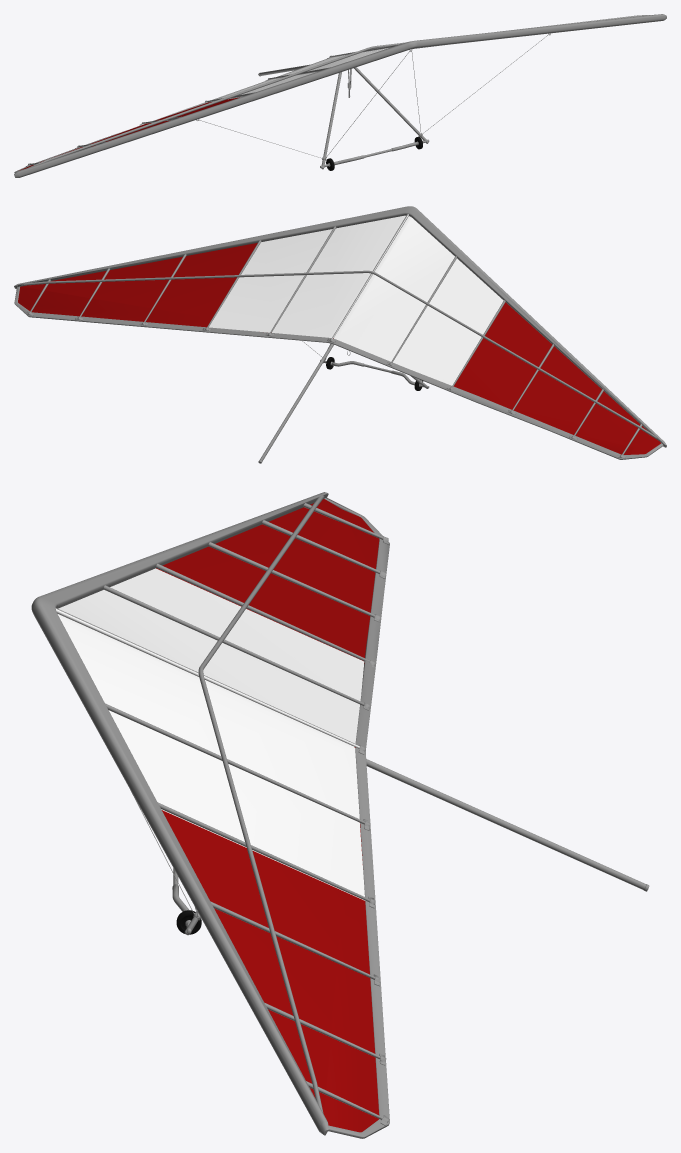
The model's file is Hang gliding 1.FBX.
The picture shows the model from 3 angles, top to bottom: view 1: azimuth 30°, elevation 25°; view 2: azimuth 150°, elevation 25°; view 3: azimuth 270°, elevation 25°; orthographic projection. The views are drawn at different scales.
Parts seen in each view (by area): view 1: Hang gliding 1; view 2: Hang gliding 1; view 3: Hang gliding 1.
Part boxes in pixels (bbox=[...]): Hang gliding 1: bbox=[14, 14, 666, 177]; Hang gliding 1: bbox=[14, 206, 666, 463]; Hang gliding 1: bbox=[31, 492, 649, 1138].
Bounding box in the file's own units: 651 × 139 × 267.
4 materials, 3 textured.
